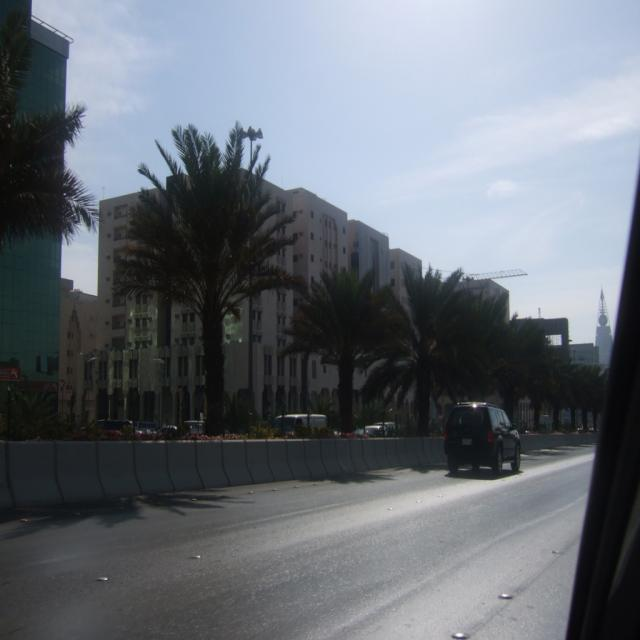car: (440, 387, 522, 479)
